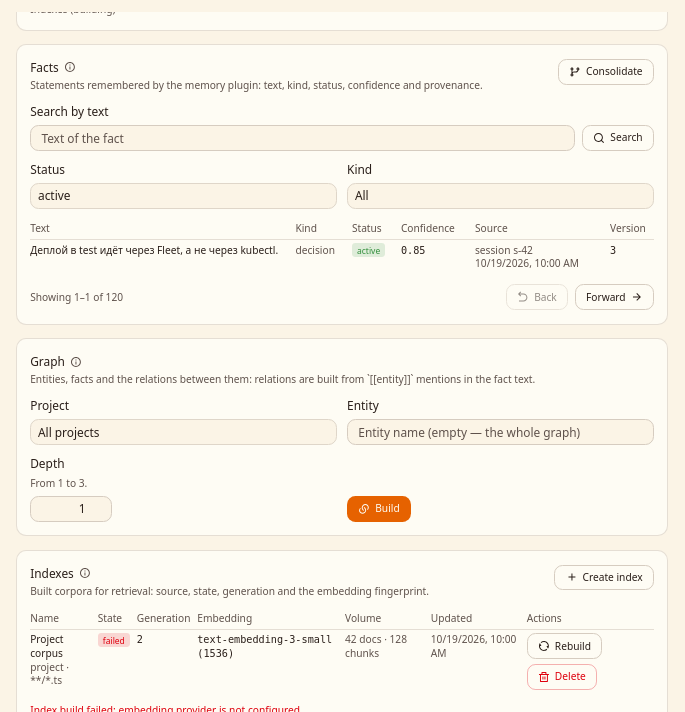
Test: MemorySettings — операции с индексами › 422: баннер показывает текст ошибки сборки
Click the button "Rebuild" at (564, 646), box [527, 634, 602, 659]
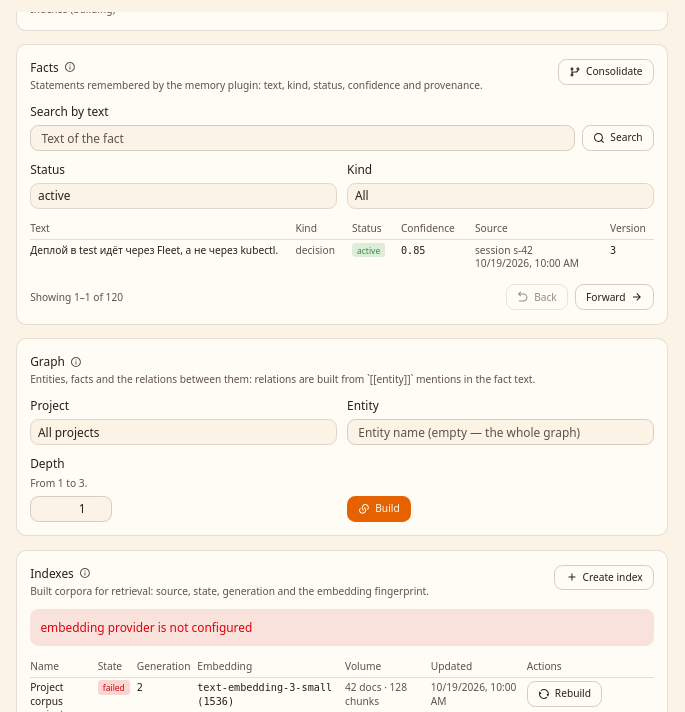
Check: the message "embedding provider is not configured" is shown, box [30, 609, 654, 646]
